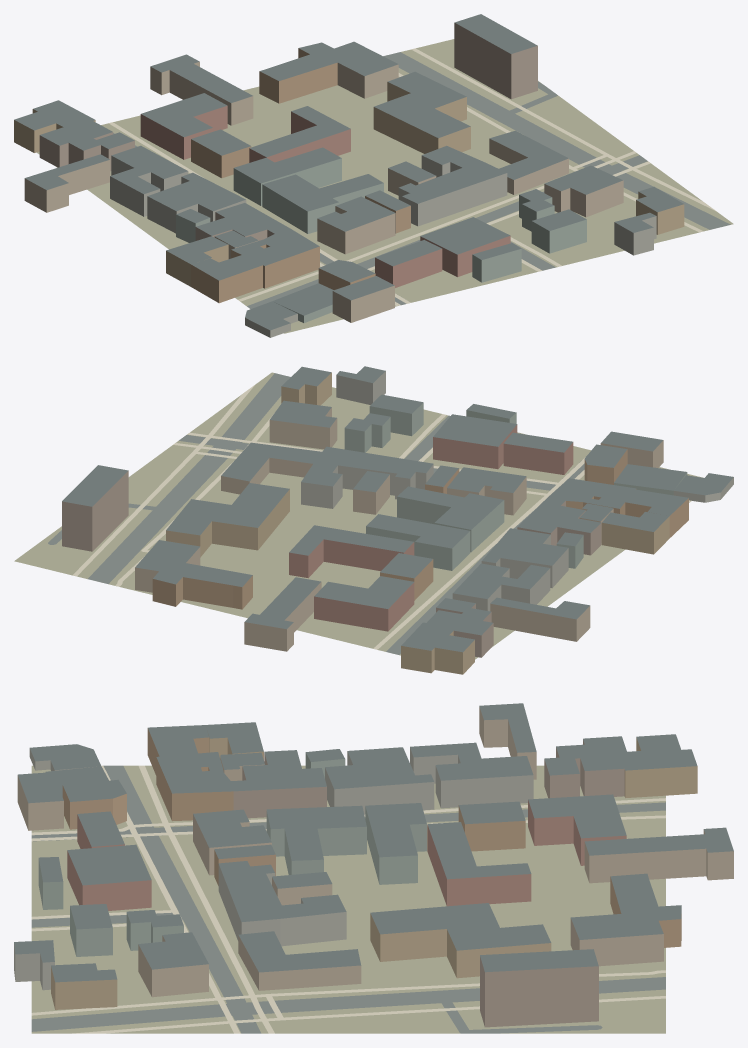
Rendered from sector-1_-3.glb.
3 renders of one model, top to bottom at view 1: azimuth 30°, elevation 25°; view 2: azimuth 150°, elevation 25°; view 3: azimuth 270°, elevation 25°, orthographic. The views are drawn at different scales.
Parts seen in each view (by area): view 1: 1:-3-facade, 1:-3-roof, 1:-3-ground, 1:-3-road, 1:-3-paving; view 2: 1:-3-facade, 1:-3-roof, 1:-3-ground, 1:-3-road, 1:-3-paving; view 3: 1:-3-roof, 1:-3-facade, 1:-3-ground, 1:-3-road, 1:-3-paving.
Part boxes in pixels (<box>): 1:-3-facade: <box>14,22,684,337</box>; 1:-3-roof: <box>14,14,683,330</box>; 1:-3-ground: <box>37,39,733,333</box>; 1:-3-road: <box>113,52,730,308</box>; 1:-3-paving: <box>108,48,716,305</box>; 1:-3-facade: <box>62,371,733,674</box>; 1:-3-roof: <box>62,366,733,652</box>; 1:-3-ground: <box>14,372,703,659</box>; 1:-3-road: <box>48,373,586,654</box>; 1:-3-paving: <box>73,384,691,649</box>; 1:-3-roof: <box>14,703,733,982</box>; 1:-3-facade: <box>14,707,733,1027</box>; 1:-3-ground: <box>31,765,665,1033</box>; 1:-3-road: <box>31,765,665,1033</box>; 1:-3-paving: <box>31,765,665,1033</box>.
Bounding box in the file's own units: 226 × 19.2 × 227.
